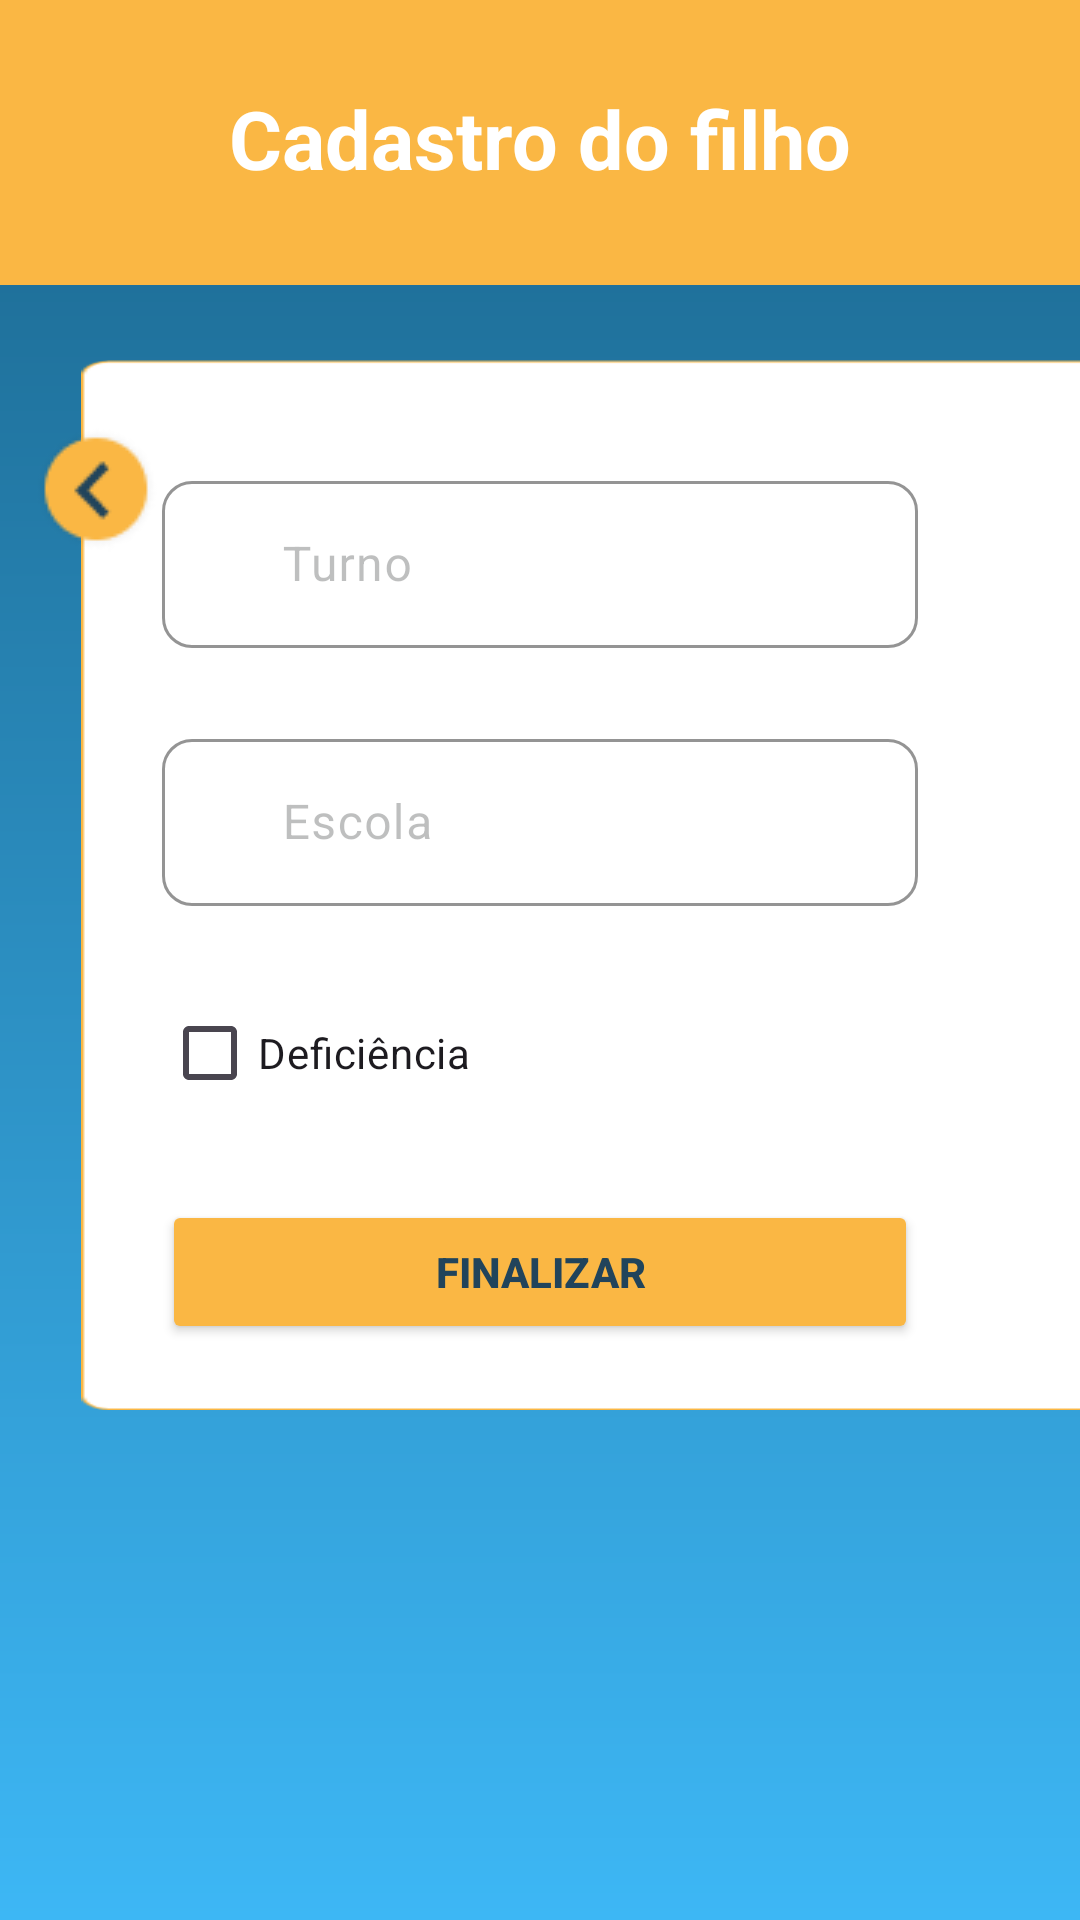

Screen size 1080w x 1920h. Icon name, then its center in pixels as [x,y]:
btngoback: [96,489]
